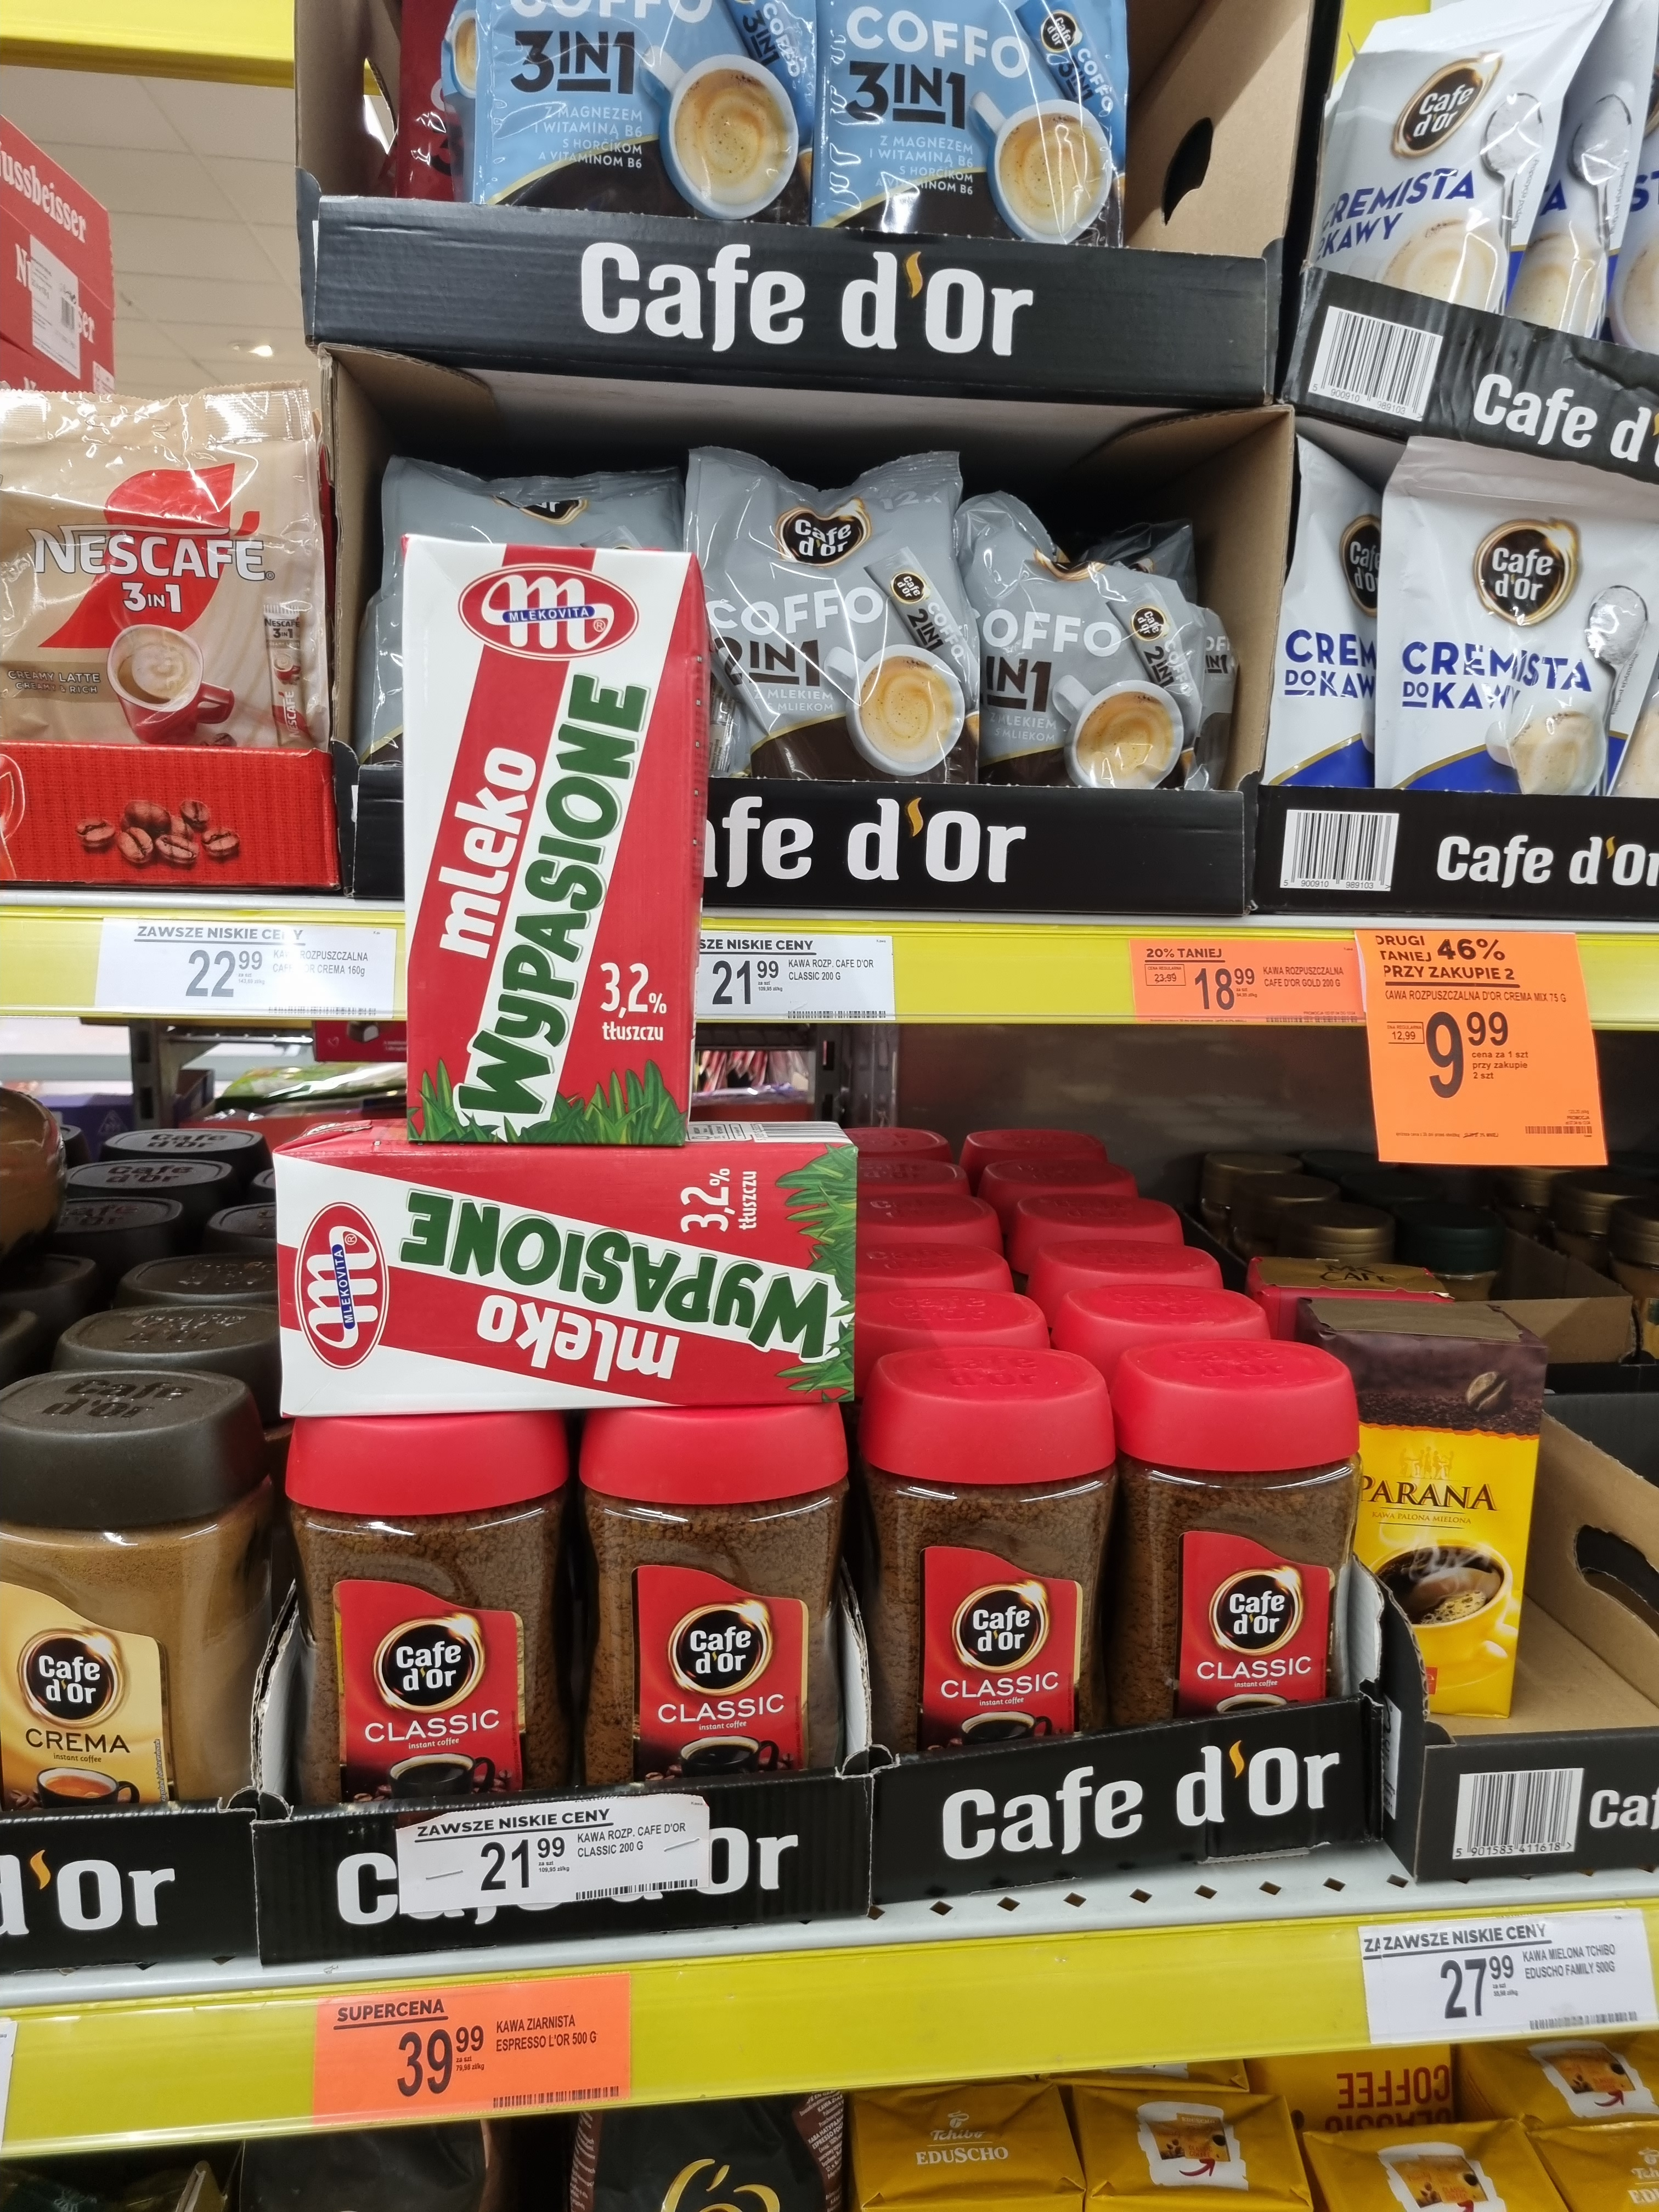Milk: (392, 524, 699, 1148), (272, 1122, 856, 1406)
